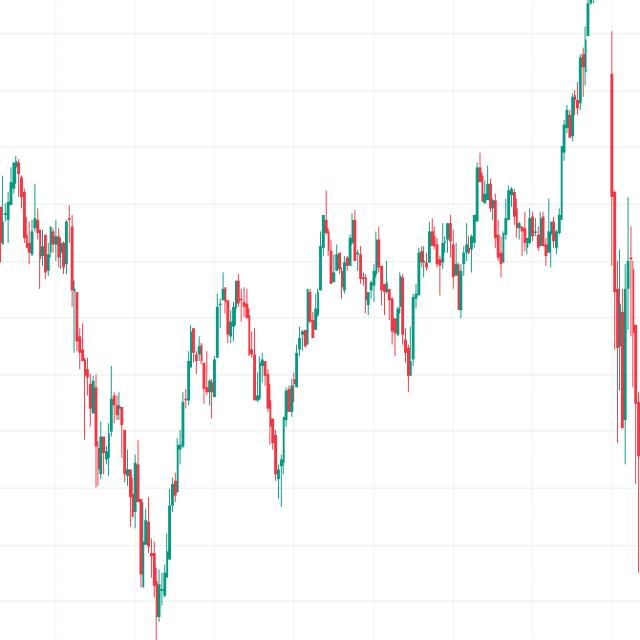Triple-Top: (313, 200, 396, 302)
